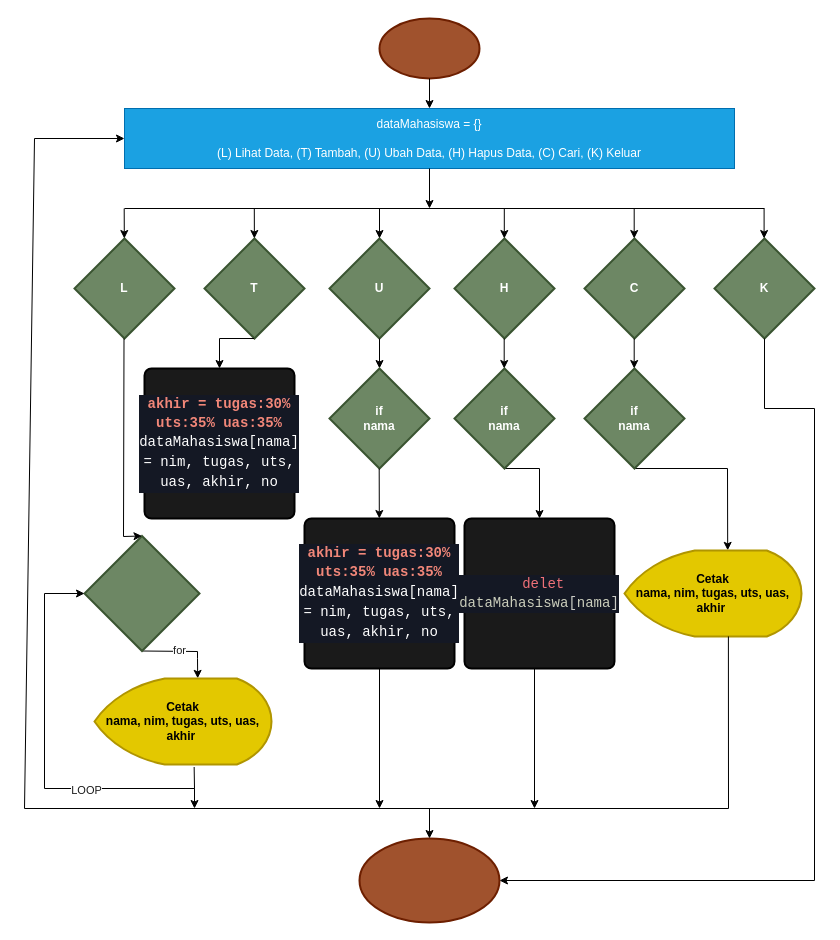
Image size: 840x940. Some labels were removed from this diagram. The box of each missing label's shape, as (x1, y1, x2, y2) in pixels:
if dataMahasiswa: (83, 534, 200, 652)
MULAI: (378, 17, 480, 79)
SELESAI: (358, 837, 500, 923)
